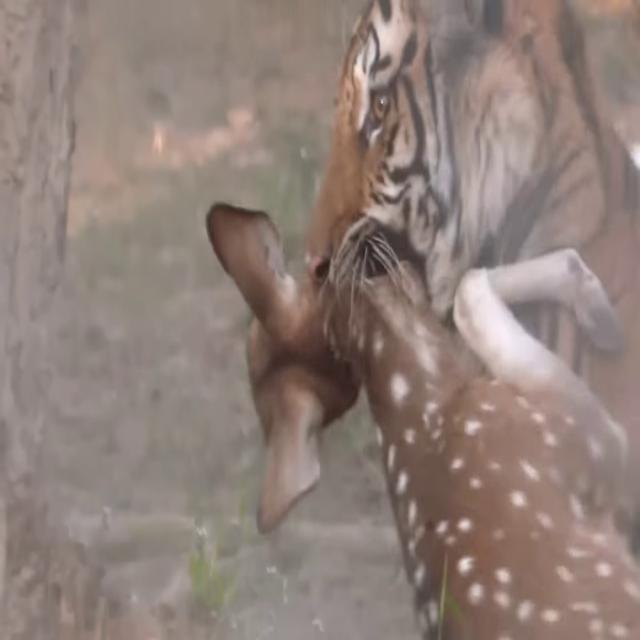tiger: (306, 0, 640, 520)
